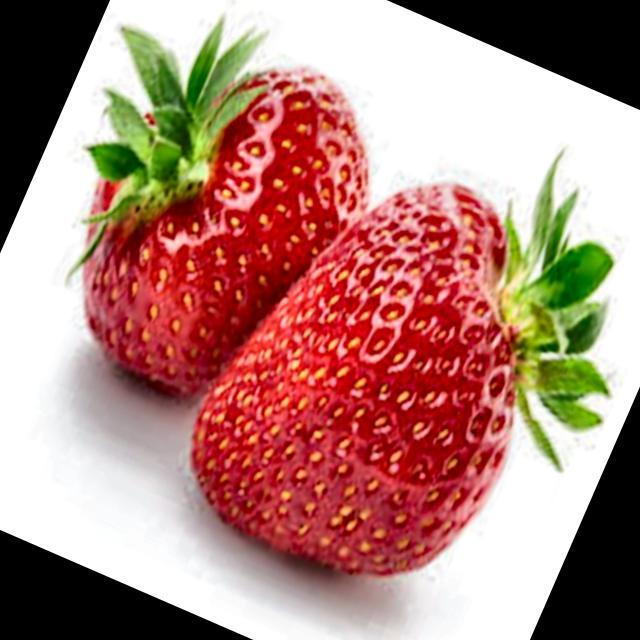strawberry: (192, 158, 614, 574), (71, 19, 368, 396)
